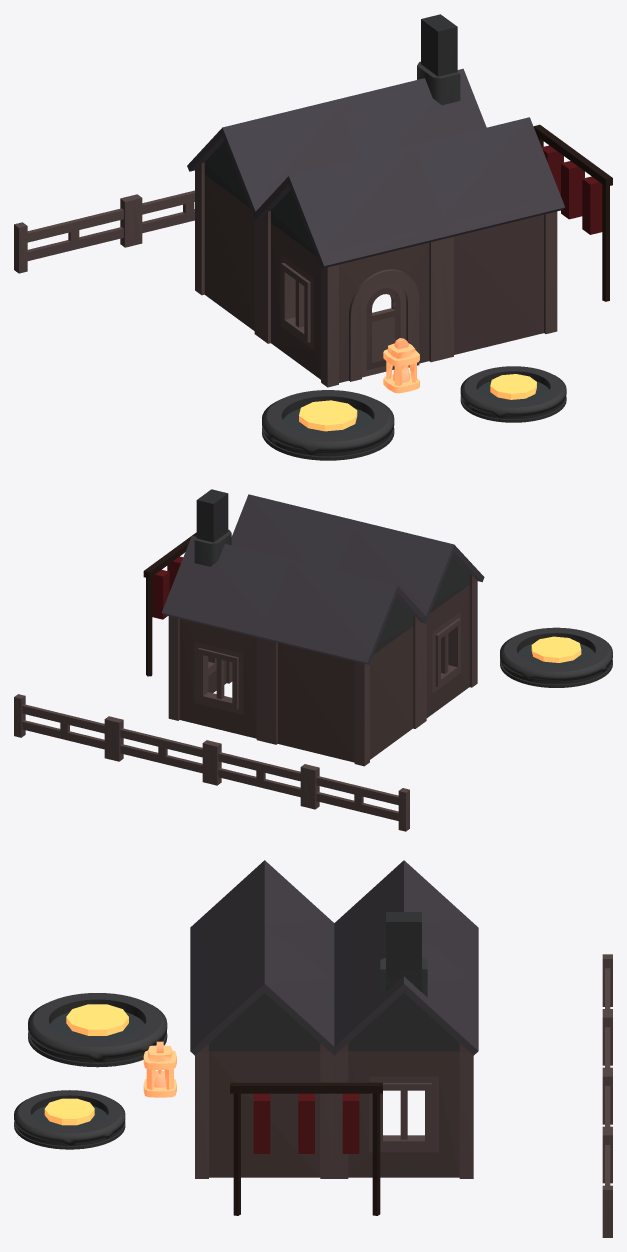
The model's file is slaughter_l2.glb.
3 views of the same model, one above another, from view 1: azimuth 30°, elevation 25°; view 2: azimuth 150°, elevation 25°; view 3: azimuth 270°, elevation 25° (orthographic). The views are drawn at different scales.
Visible parts, largest first — view 1: slaughter_l2; view 2: slaughter_l2; view 3: slaughter_l2.
Boxes of the visible parts, left/top/right/bottom form: slaughter_l2: left=14, top=14, right=612, bottom=460; slaughter_l2: left=14, top=489, right=612, bottom=831; slaughter_l2: left=14, top=860, right=612, bottom=1237.
Size of the model in its own units: 7.35 by 3.67 by 7.9.
